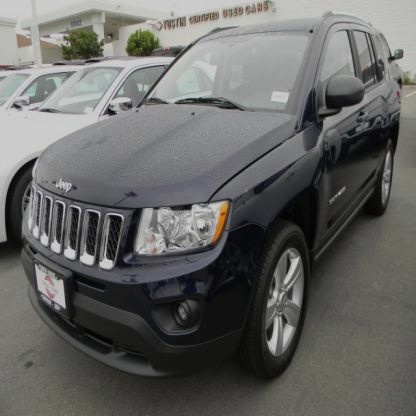Vehicle: (20, 14, 404, 386)
